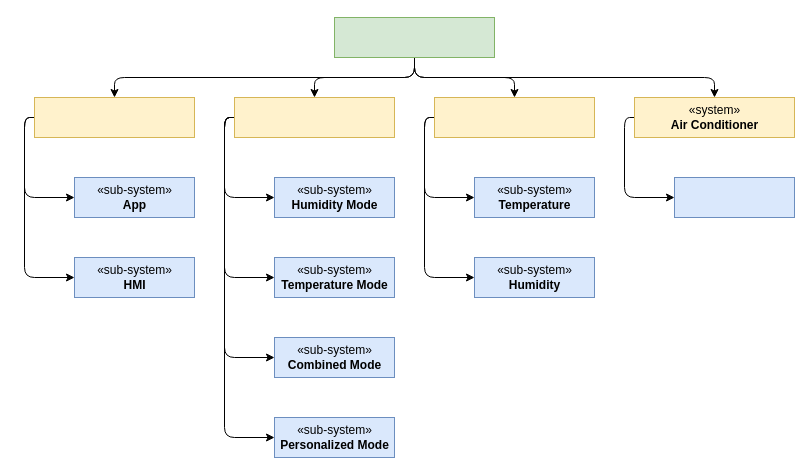
Some shapes in this 812 by 475 pixel diagram are drawn without their labels. Here are the shapes that lost their labels. From the top down, the centre of each, then its label:
At point (414, 37): "«function» Smart Climate Control".
At point (114, 117): "«system» User Interaction".
At point (314, 117): "«system» Climate Manager".
At point (514, 117): "«system» Sensors".
At point (734, 197): "«sub-system» Actuator".
